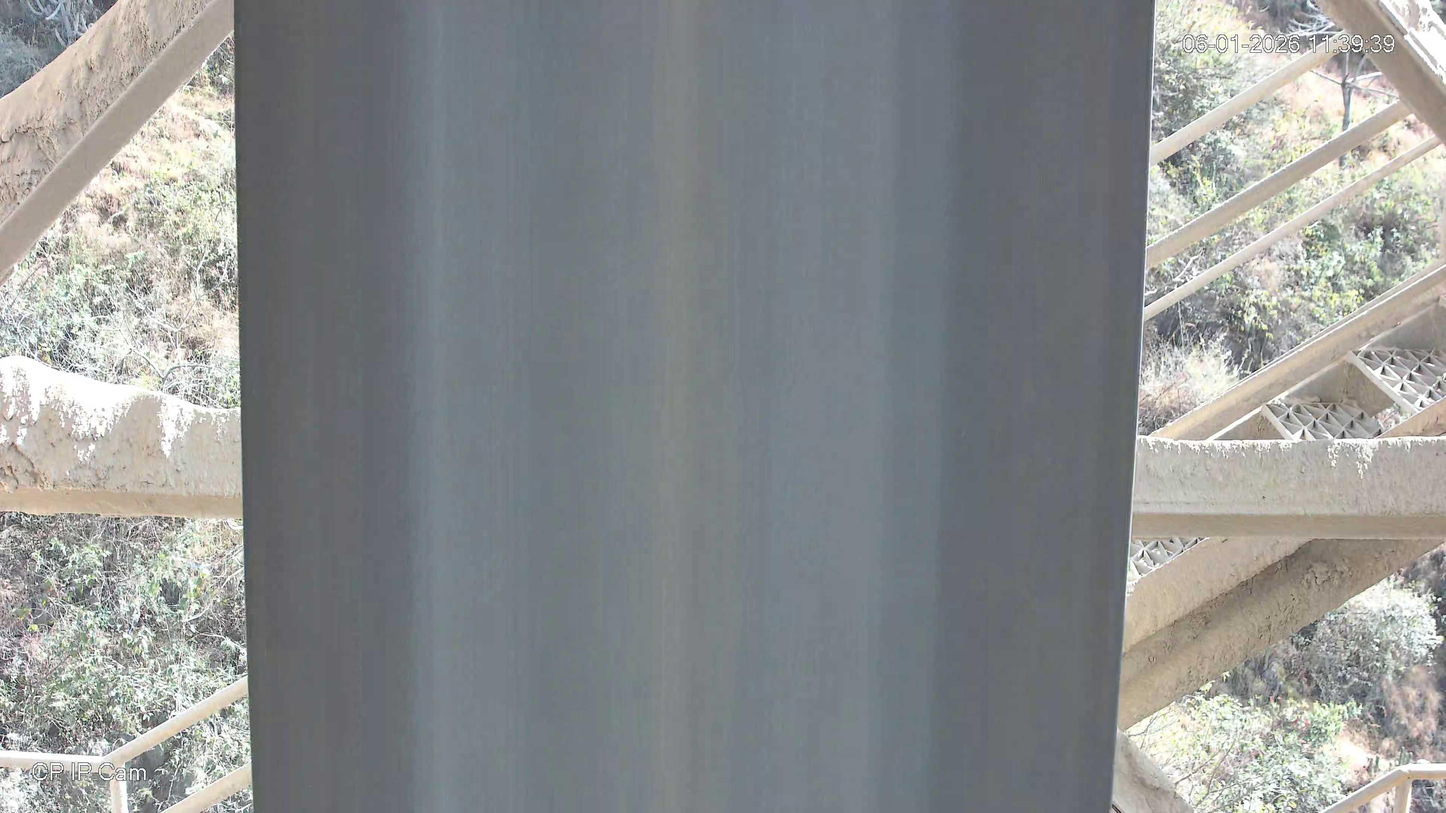belt_roi: (230, 0, 1154, 813)
